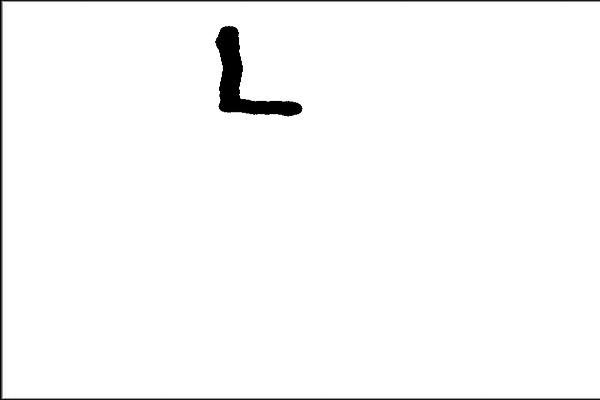L: (204, 16, 310, 126)
